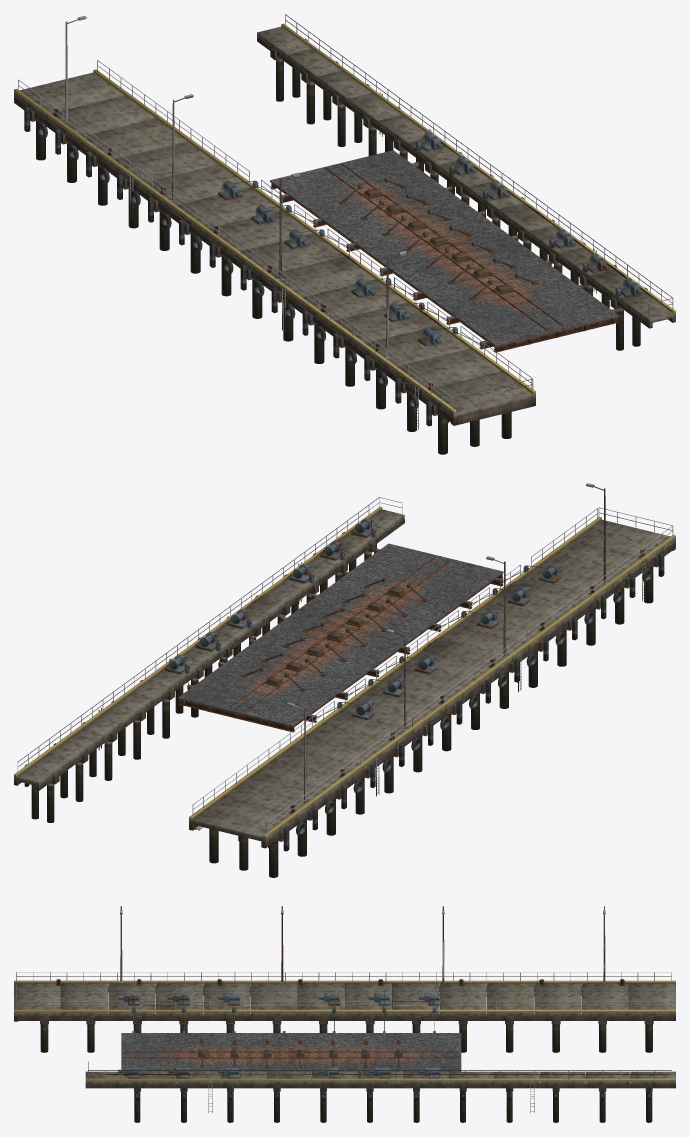
File: port_pier.glb
The picture shows the model from 3 angles, top to bottom: view 1: azimuth 30°, elevation 25°; view 2: azimuth 150°, elevation 25°; view 3: azimuth 270°, elevation 25°; orthographic projection. The views are drawn at different scales.
Visible parts, largest first — view 1: pier_conc, pier_steel; view 2: pier_conc, pier_steel; view 3: pier_conc, pier_steel.
Boxes of the visible parts, x1,y1,x2,y2 form: pier_conc: [14, 23, 675, 454]; pier_steel: [18, 14, 673, 429]; pier_conc: [14, 506, 675, 877]; pier_steel: [17, 483, 673, 833]; pier_conc: [14, 980, 675, 1122]; pier_steel: [16, 906, 671, 1112].
Bounding box in the file's own units: 27.34 × 14.86 × 74.
Materials: 2 (2 with a texture image).
